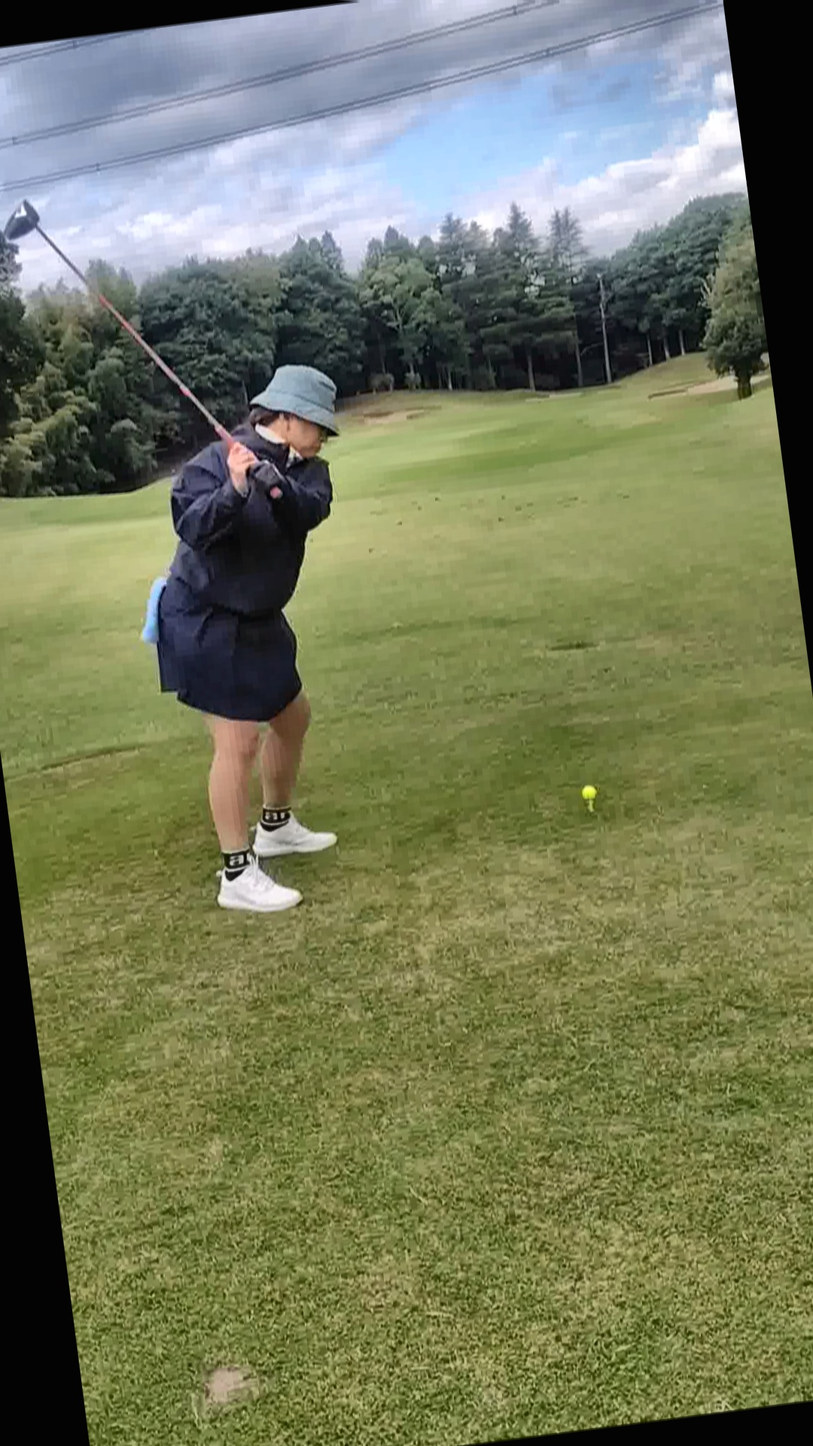clubhead: (0, 121, 249, 381)
